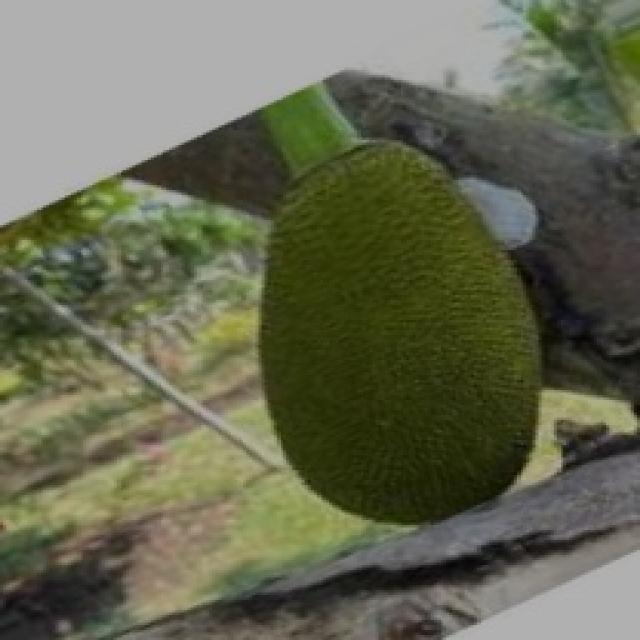Fruit: (209, 108, 588, 532)
